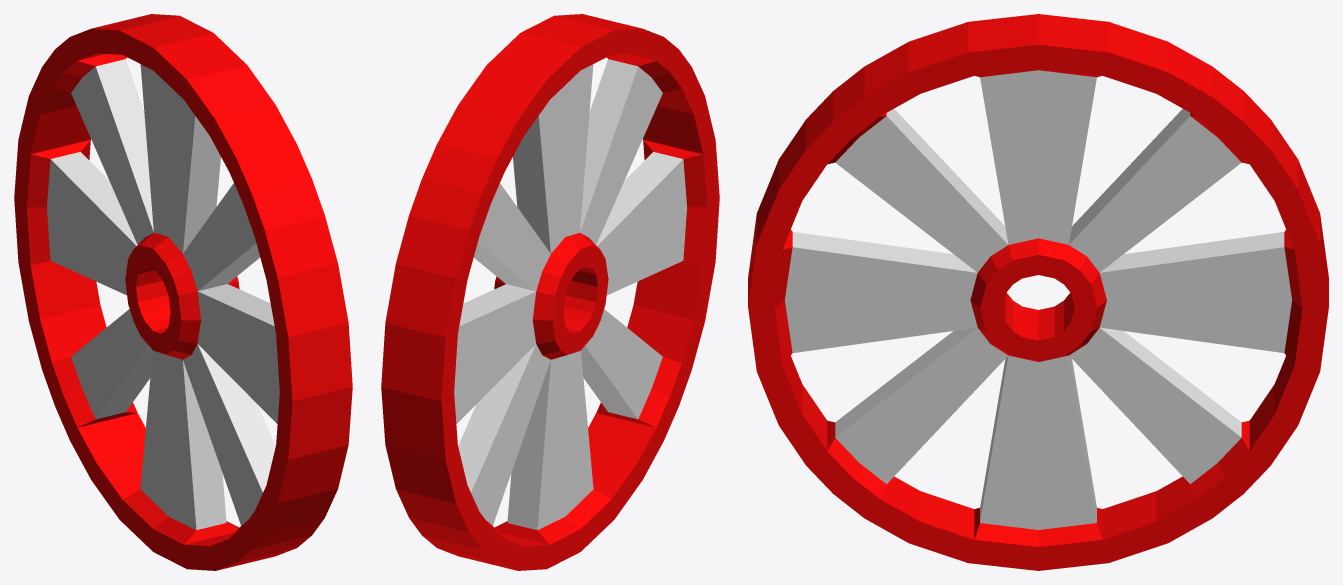
File: Rueda.glb
3 renders of one model, left to right at view 1: azimuth 30°, elevation 25°; view 2: azimuth 150°, elevation 25°; view 3: azimuth 270°, elevation 25°, orthographic. The views are drawn at different scales.
Parts seen in each view (by area): view 1: Rueda; view 2: Rueda; view 3: Rueda.
Boxes of the visible parts, x1,y1,x2,y2 form: Rueda: (14,14,352,570); Rueda: (381,14,719,570); Rueda: (748,14,1328,570).
Size of the model in its own units: 0.2 by 1.6 by 1.6.
